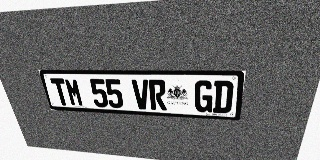5: (89, 79, 109, 108), (105, 79, 124, 108)
D: (213, 81, 234, 113)
G: (194, 80, 214, 113)
M: (64, 78, 84, 106)
R: (148, 80, 167, 110)
T: (50, 78, 71, 106)
V: (131, 79, 150, 110)
